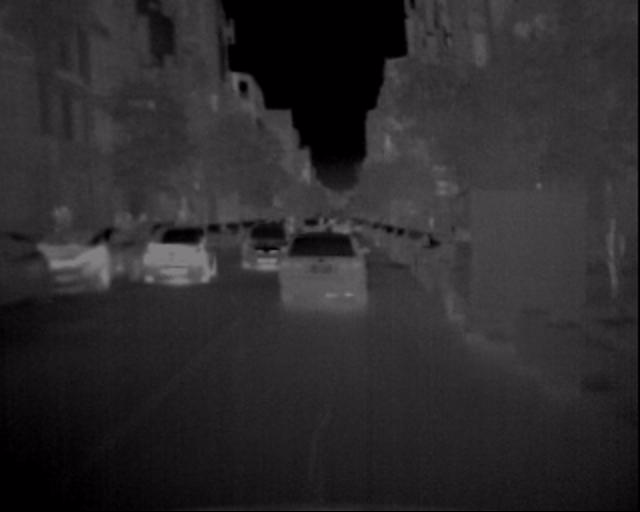person: (601, 214, 633, 299)
